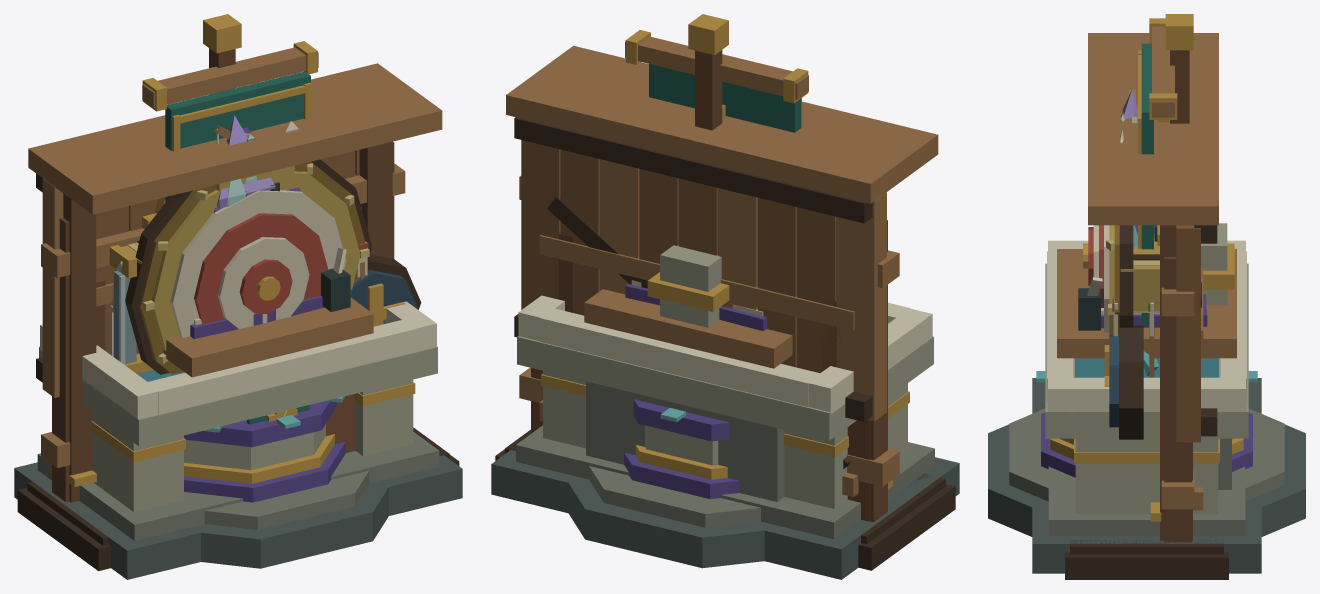
File: training-grounds.glb
3 views of the same model, side by side, from view 1: azimuth 30°, elevation 25°; view 2: azimuth 150°, elevation 25°; view 3: azimuth 270°, elevation 25° (orthographic). The views are drawn at different scales.
Parts seen in each view (by area): view 1: training-archery-target-body, training-healing-shrine-body, training-arcane-target-base, training-weapon-rack-body, training-class-banner-cleric-body, training-lectern-body, training-arrow-rack-body, training-arcane-target-crystal, training-dummy-strike; view 2: training-archery-target-body, training-healing-shrine-body, training-arcane-target-base, training-class-banner-cleric-body, training-weapon-rack-body, training-lectern-body, training-arrow-rack-body; view 3: training-healing-shrine-body, training-archery-target-body, training-weapon-rack-body, training-arcane-target-base, training-lectern-body, training-class-banner-cleric-body, training-dummy-strike, training-arrow-rack-body, training-arcane-target-crystal.
Boxes of the visible parts, bbox=[...] form: training-archery-target-body: bbox=[27, 63, 449, 545]; training-healing-shrine-body: bbox=[14, 197, 462, 579]; training-arcane-target-base: bbox=[184, 396, 394, 568]; training-weapon-rack-body: bbox=[17, 142, 459, 571]; training-class-banner-cleric-body: bbox=[142, 14, 318, 202]; training-lectern-body: bbox=[163, 247, 373, 377]; training-arrow-rack-body: bbox=[96, 241, 368, 453]; training-arcane-target-crystal: bbox=[213, 115, 300, 212]; training-dummy-strike: bbox=[115, 165, 361, 271]; training-archery-target-body: bbox=[505, 45, 945, 544]; training-healing-shrine-body: bbox=[491, 104, 959, 579]; training-arcane-target-base: bbox=[562, 399, 764, 568]; training-class-banner-cleric-body: bbox=[625, 14, 808, 132]; training-weapon-rack-body: bbox=[495, 176, 955, 570]; training-lectern-body: bbox=[584, 280, 792, 368]; training-arrow-rack-body: bbox=[539, 233, 858, 496]; training-healing-shrine-body: bbox=[1032, 120, 1261, 573]; training-archery-target-body: bbox=[1070, 33, 1223, 554]; training-weapon-rack-body: bbox=[1065, 257, 1228, 579]; training-arcane-target-base: bbox=[988, 351, 1305, 536]; training-lectern-body: bbox=[1057, 249, 1236, 358]; training-class-banner-cleric-body: bbox=[1138, 14, 1193, 324]; training-dummy-strike: bbox=[1120, 234, 1159, 312]; training-arrow-rack-body: bbox=[1112, 267, 1203, 510]; training-arcane-target-crystal: bbox=[1122, 89, 1154, 247].
Size of the model in its own units: 2.58 by 3.17 by 1.94.
